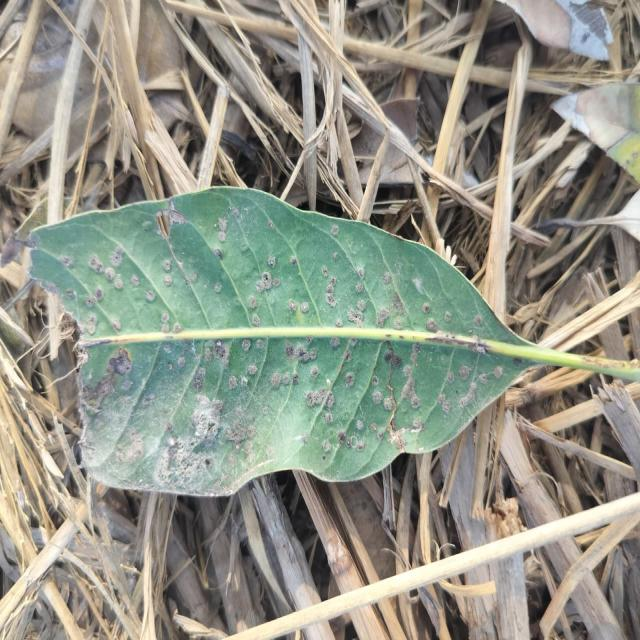Powdery Mildew: (158, 446, 209, 487), (191, 393, 221, 444)
gall midge: (279, 340, 339, 419), (248, 271, 285, 326), (87, 246, 134, 289), (322, 269, 348, 315), (210, 215, 231, 263)
